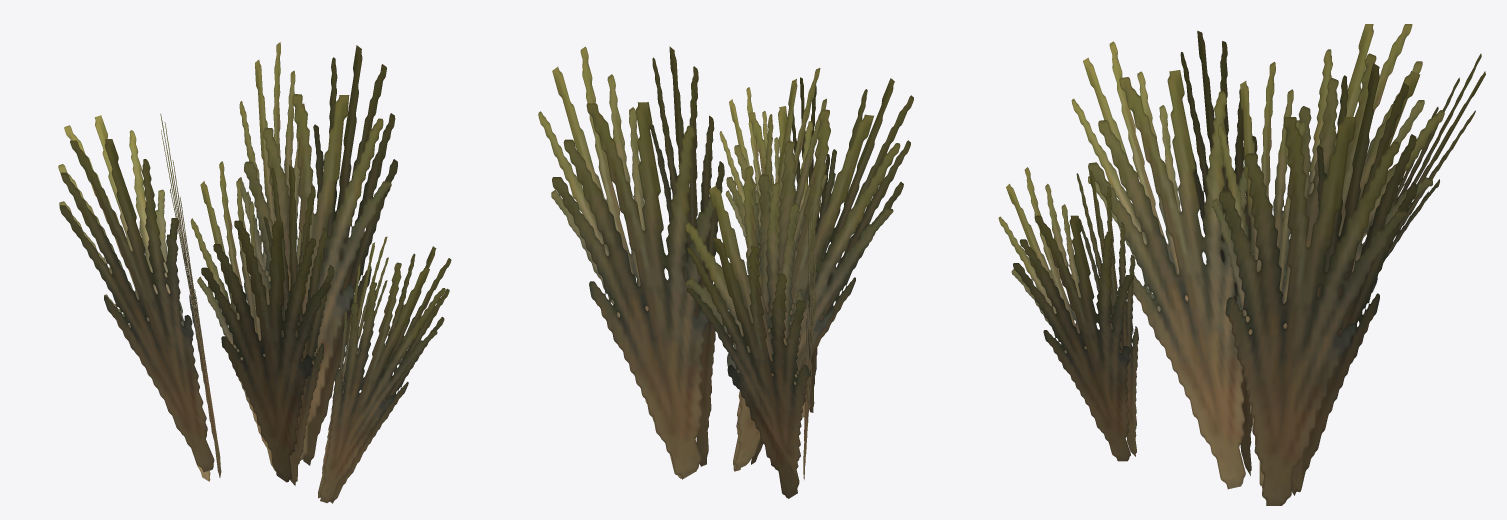
Rendered from C2SNREEDS.obj.
3 views of the same model, side by side, from view 1: azimuth 30°, elevation 25°; view 2: azimuth 150°, elevation 25°; view 3: azimuth 270°, elevation 25° (orthographic). The views are drawn at different scales.
Parts seen in each view (by area): view 1: Node 0; view 2: Node 0; view 3: Node 0.
Boxes of the visible parts, bbox=[...] form: Node 0: bbox=[58, 42, 451, 503]; Node 0: bbox=[538, 46, 913, 498]; Node 0: bbox=[998, 24, 1485, 505].
Size of the model in its own units: 2.17 by 2.67 by 2.83.
1 material, 1 textured.
